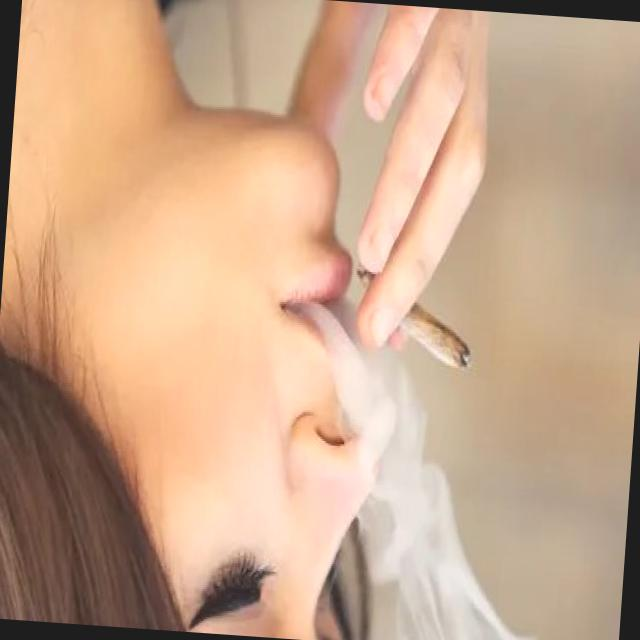cigarette: (357, 275, 480, 373)
